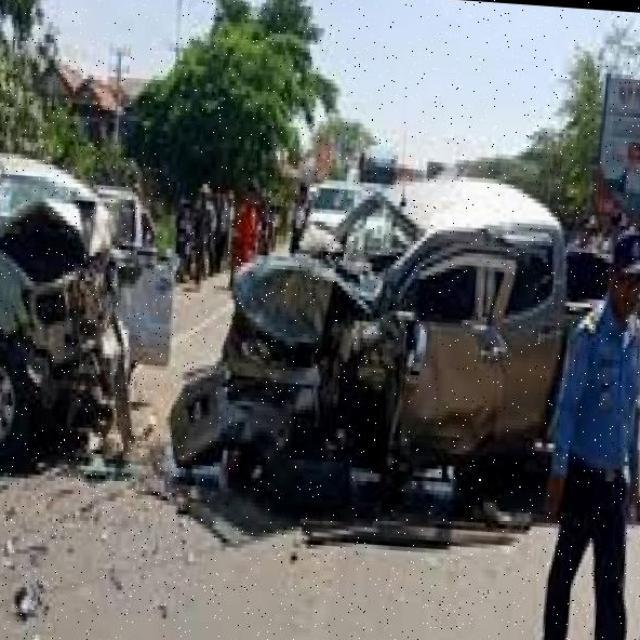accident: (168, 167, 489, 552), (0, 146, 157, 491)
